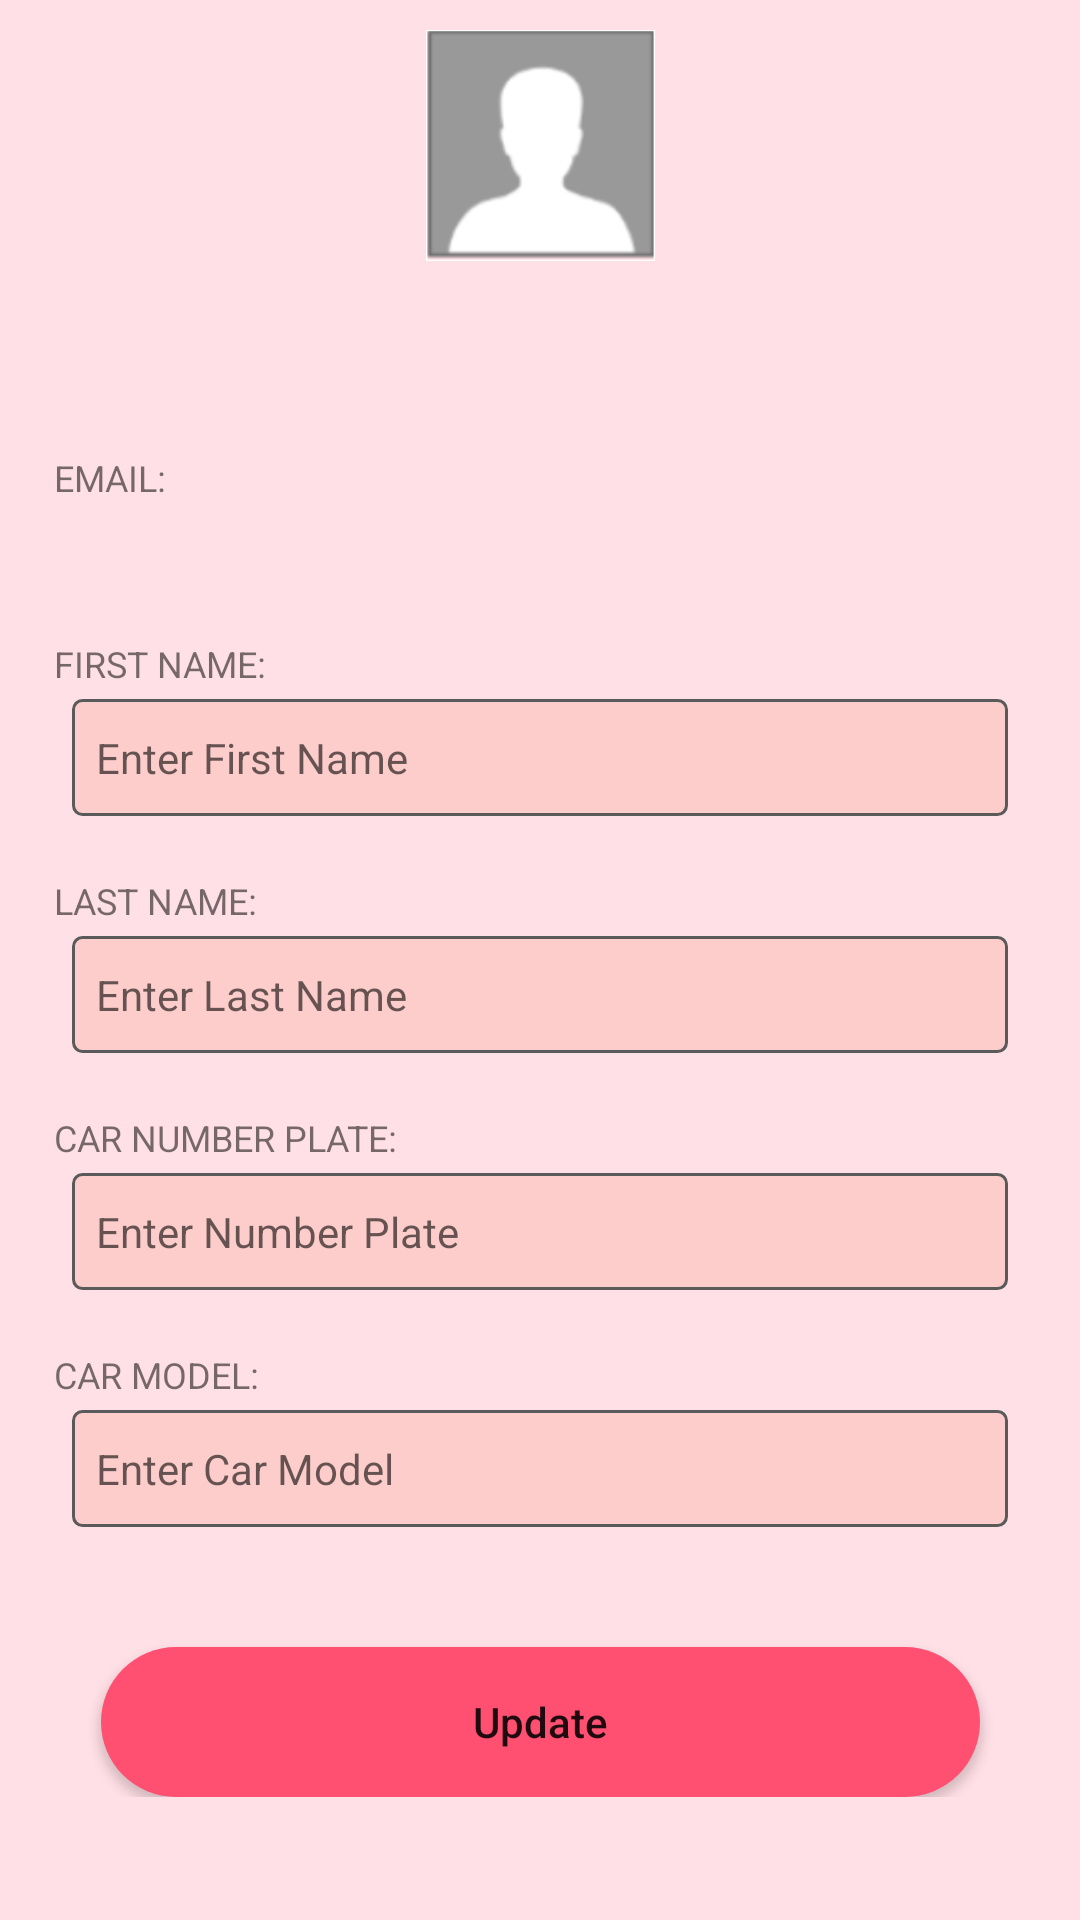

Where to tap for icons on this 1080×1920 app screen, as (x=x, y=y):
profile: (x=540, y=145)
